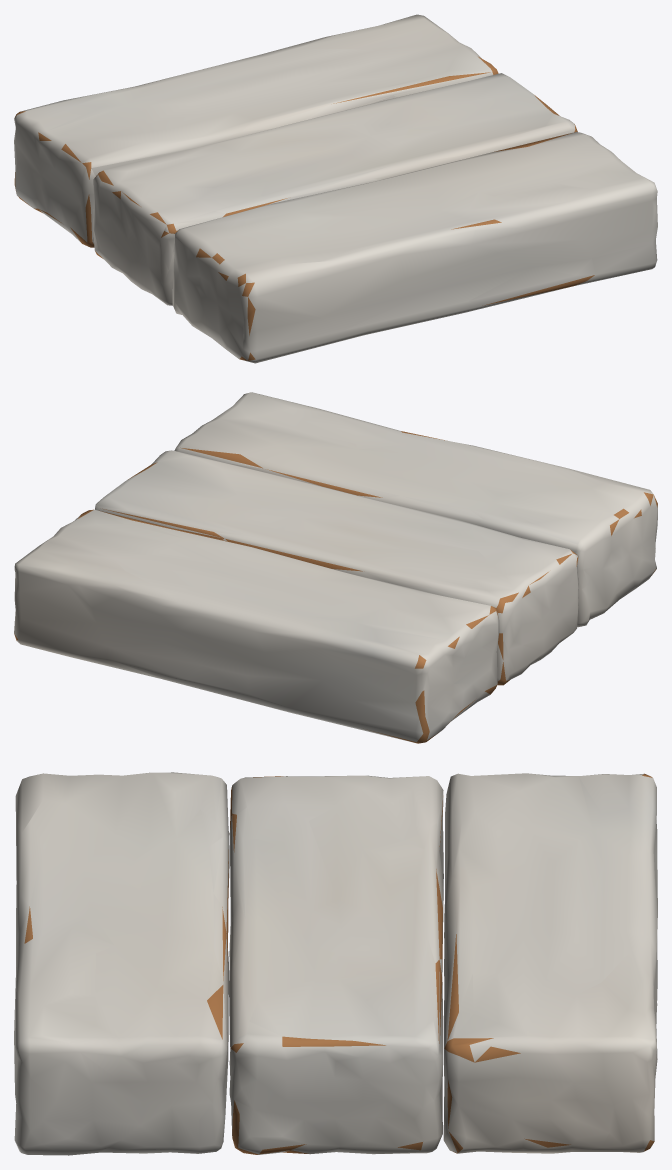
File: frost_sill_ledge_inner_lod1.glb
3 views of the same model, one above another, from view 1: azimuth 30°, elevation 25°; view 2: azimuth 150°, elevation 25°; view 3: azimuth 270°, elevation 25° (orthographic). The views are drawn at different scales.
Visible parts, largest first — view 1: frost_sill_ledge_inner.001; view 2: frost_sill_ledge_inner.001; view 3: frost_sill_ledge_inner.001.
Boxes of the visible parts, bbox=[...] form: frost_sill_ledge_inner.001: bbox=[14, 14, 657, 363]; frost_sill_ledge_inner.001: bbox=[14, 392, 657, 743]; frost_sill_ledge_inner.001: bbox=[14, 772, 657, 1155].
Size of the model in its own units: 20.17 by 4.22 by 20.02.
